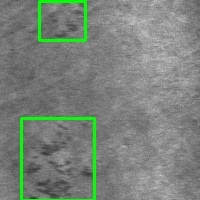rolled-in_scale: (22, 118, 94, 200), (39, 1, 85, 40)
